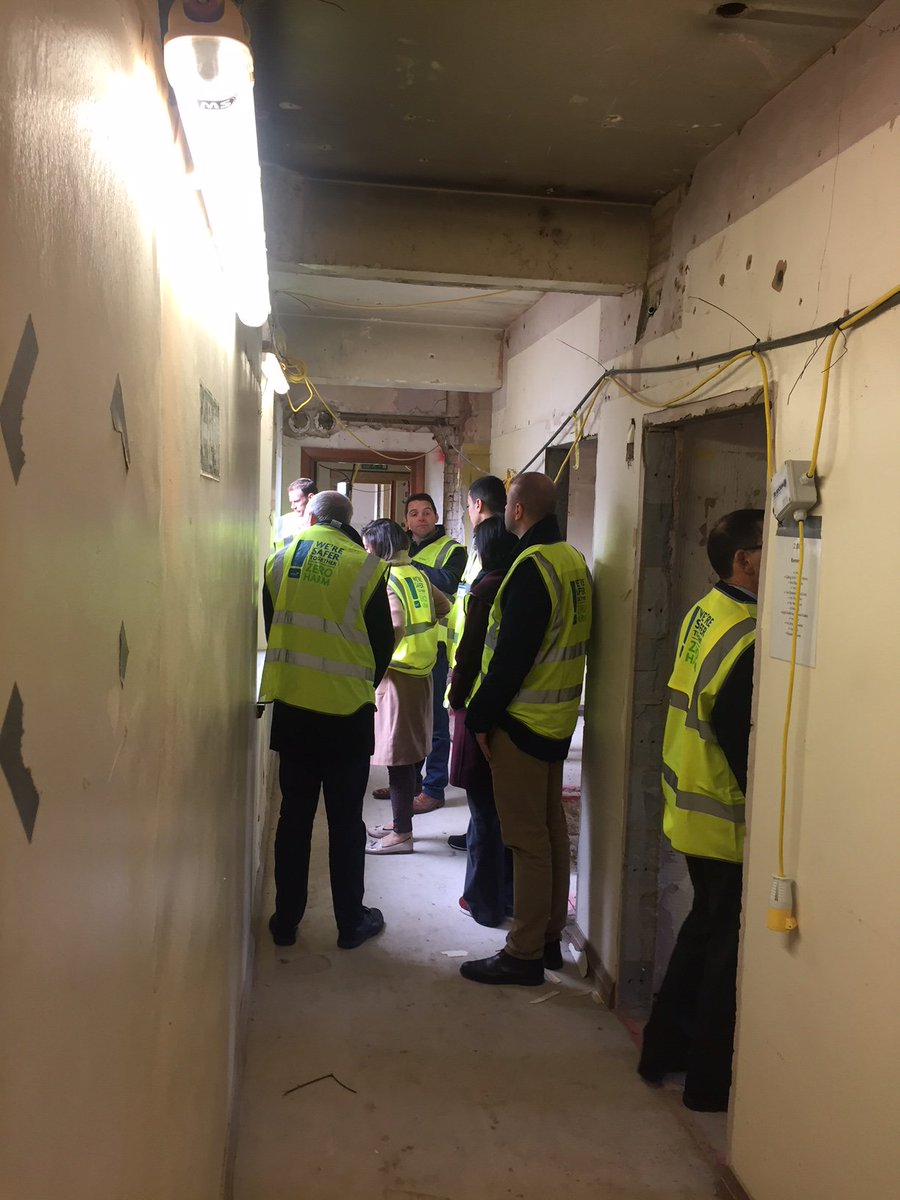noepi: (665, 504, 766, 1129), (266, 491, 399, 956), (499, 467, 584, 1005), (358, 512, 449, 863), (451, 473, 513, 709), (394, 487, 469, 608), (278, 463, 323, 546)
